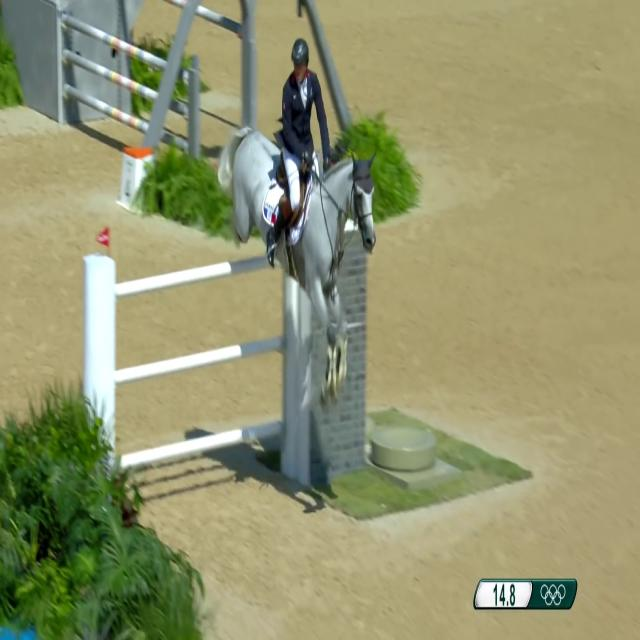Horse Jumping: (220, 122, 384, 380)
Horse Rider: (264, 34, 332, 274)
